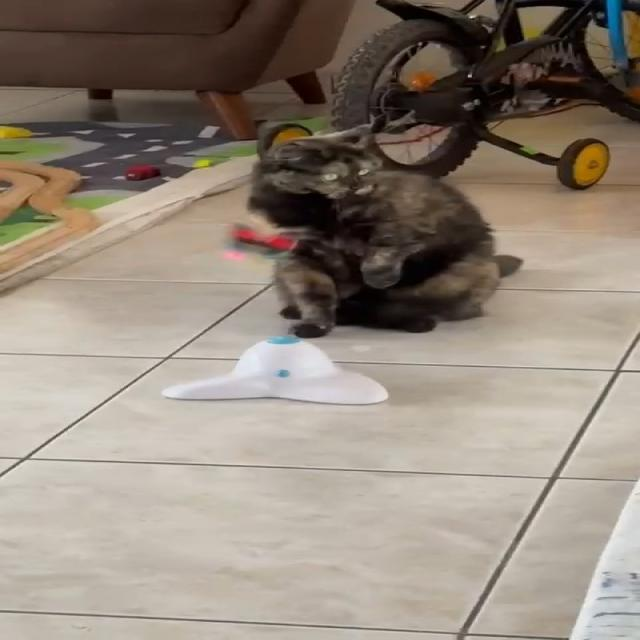authorized: (244, 119, 523, 338)
